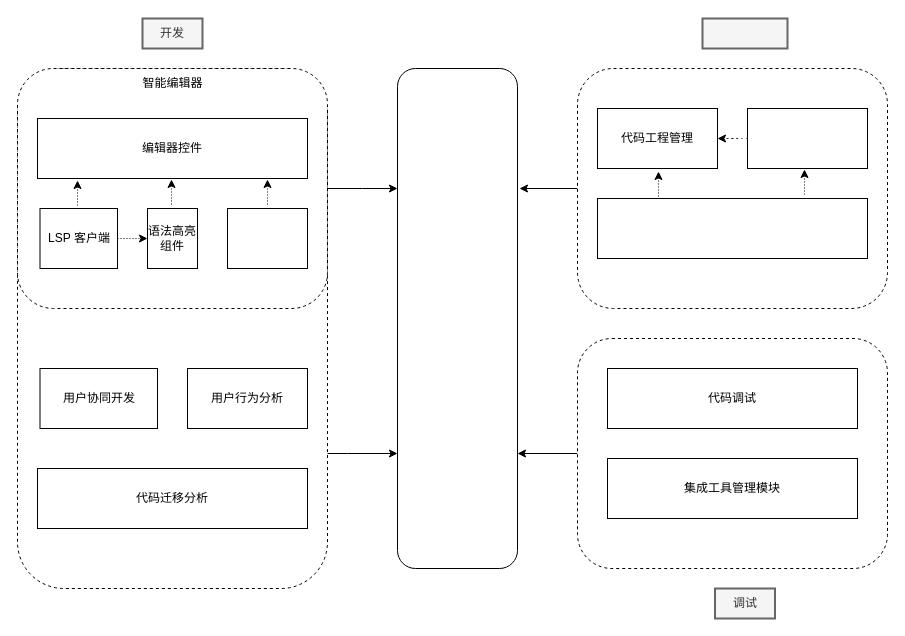
Image size: 905x636. Some labels were removed from this diagram. Here are the shapes that lost their labels. From the top down, the box of each, then its label:
(701, 17, 788, 49): 编译/运行
(746, 108, 868, 168): 本地跨平台部署
(226, 208, 308, 268): 文本缓冲区
(596, 198, 868, 258): 运行时子系统
(396, 68, 518, 568): 核心系统
